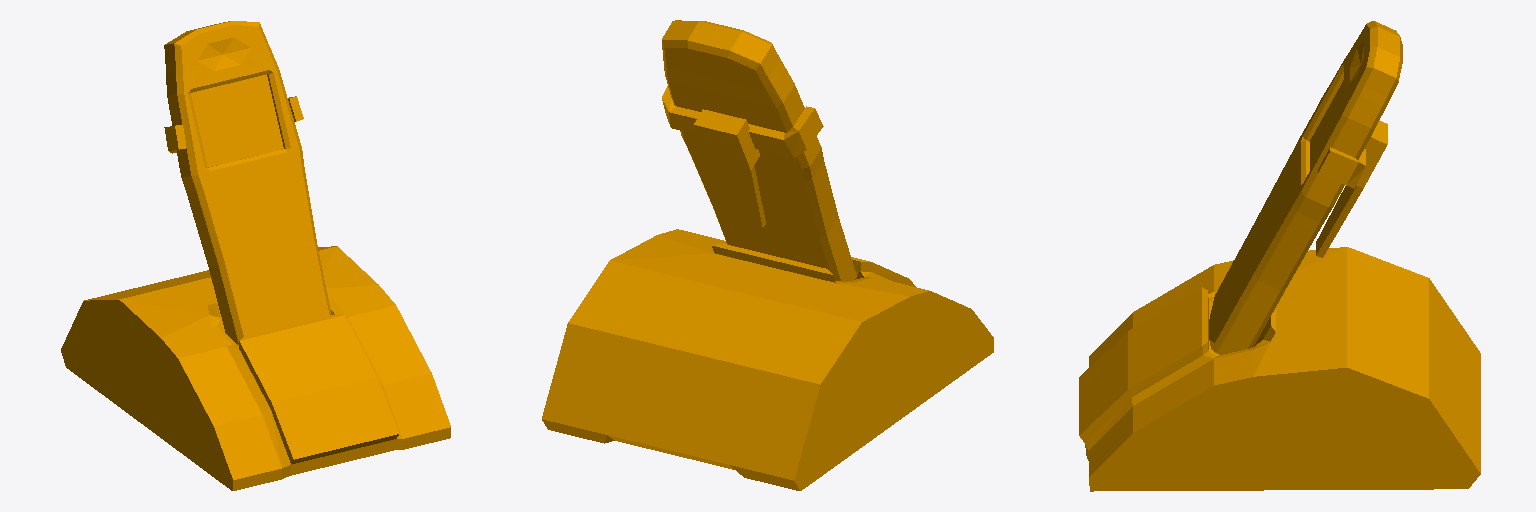
URDF robot description (none):
<robot name="none">
       <link name="none">
           <visual>
               <origin rpy="1.57 0 0" xyz="0 0 0" />
               <geometry>
                   <mesh filename="wirelessOfficePhone3.obj" />
               </geometry>
           </visual>
          <collision>
              <geometry>
                  <box size="0.656922 1.000000 0.922807" />
              </geometry>
          </collision>

          <inertial>
            <mass value="0.0" />
            <inertia ixx="0.0" ixy="0.0" ixz="0.0" iyy="0.0" iyz="0.0" izz="0.0" />
          </inertial>
      </link>
  </robot>

--- What the picture shows (computed from the rendered views, not written in the file) ---
Views: 3 orthographic renders of the robot side by side, from view 1: azimuth 30°, elevation 25°; view 2: azimuth 150°, elevation 25°; view 3: azimuth 270°, elevation 25°.
Model none with 1 links and 0 joints (none), rooted at none, posed all joints at 0.
Links seen in each view (by area): view 1: none; view 2: none; view 3: none.
Boxes of the visible links, <box> form: none: <box>61,21,450,490</box>; none: <box>542,20,993,490</box>; none: <box>1079,21,1480,491</box>.
Bounding box of the posed robot: 0.6569 × 0.9228 × 0.9995 m (x, y, z).
1 mesh visuals loaded from 1 distinct referenced files (1 OBJ).